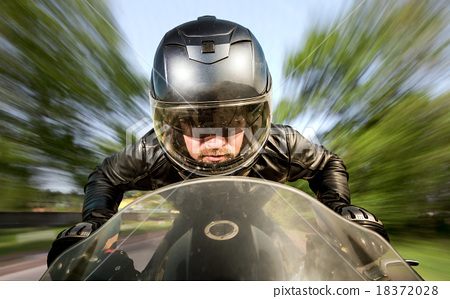helmet: (144, 17, 273, 172)
